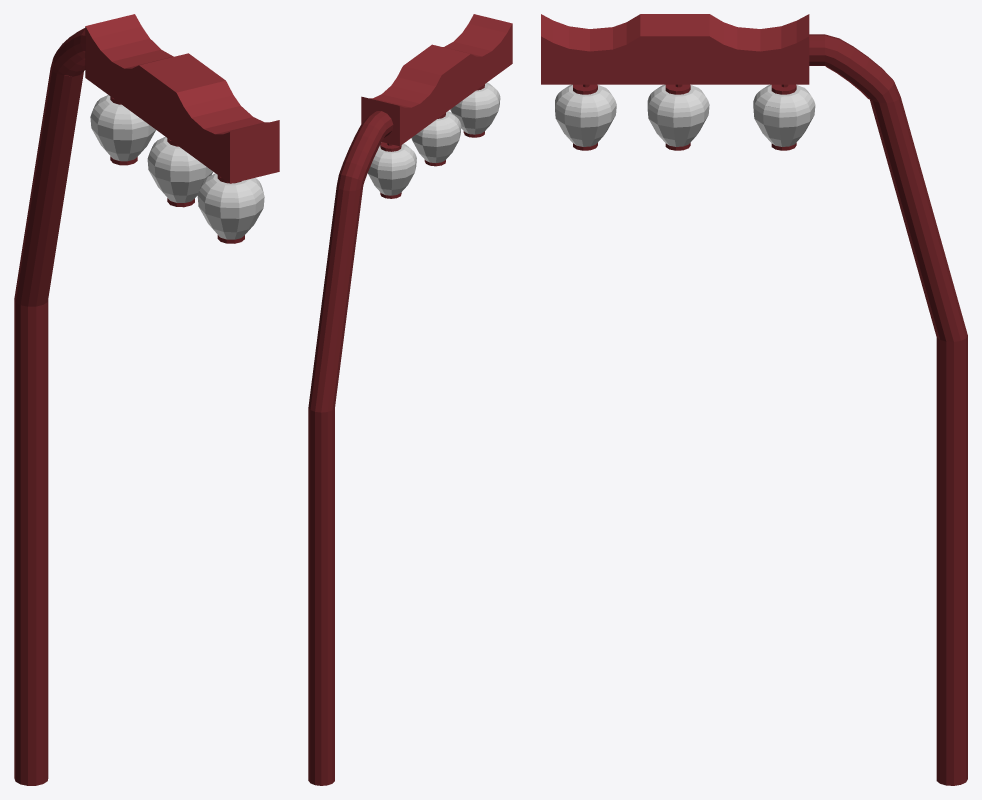
The model's file is poste liberdade alpha.fbx.
The picture shows the model from 3 angles, left to right: view 1: azimuth 30°, elevation 25°; view 2: azimuth 150°, elevation 25°; view 3: azimuth 270°, elevation 25°; orthographic projection. The views are drawn at different scales.
Parts seen in each view (by area): view 1: Poste Pescoço, Poste cabeça, Lanterna, Lanterna.002, Lanterna.001; view 2: Poste Pescoço, Poste cabeça, Lanterna.002, Lanterna.001, Lanterna; view 3: Poste Pescoço, Poste cabeça, Lanterna.001, Lanterna.002, Lanterna.
Boxes of the visible parts, x1=… form: Poste Pescoço: x1=14, y1=28, x2=85, y2=785; Poste cabeça: x1=85, y1=14, x2=279, y2=183; Lanterna: x1=197, y1=173, x2=264, y2=239; Lanterna.002: x1=90, y1=95, x2=155, y2=161; Lanterna.001: x1=147, y1=137, x2=212, y2=202; Poste Pescoço: x1=308, y1=111, x2=393, y2=785; Poste cabeça: x1=361, y1=14, x2=512, y2=146; Lanterna.002: x1=368, y1=144, x2=416, y2=195; Lanterna.001: x1=411, y1=111, x2=461, y2=162; Lanterna: x1=450, y1=82, x2=500, y2=134; Poste Pescoço: x1=809, y1=34, x2=967, y2=785; Poste cabeça: x1=541, y1=14, x2=809, y2=84; Lanterna.001: x1=647, y1=84, x2=709, y2=146; Lanterna.002: x1=753, y1=84, x2=815, y2=146; Lanterna: x1=555, y1=84, x2=616, y2=146.
Size of the model in its own units: 35.05 by 471 by 241.
